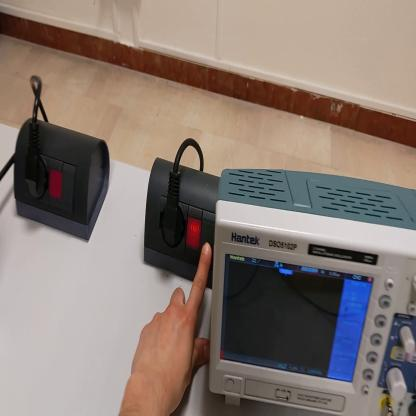hand: (130, 244, 213, 416)
oscilloscope: (210, 170, 415, 414)
socket: (16, 120, 111, 244), (144, 158, 220, 289)
